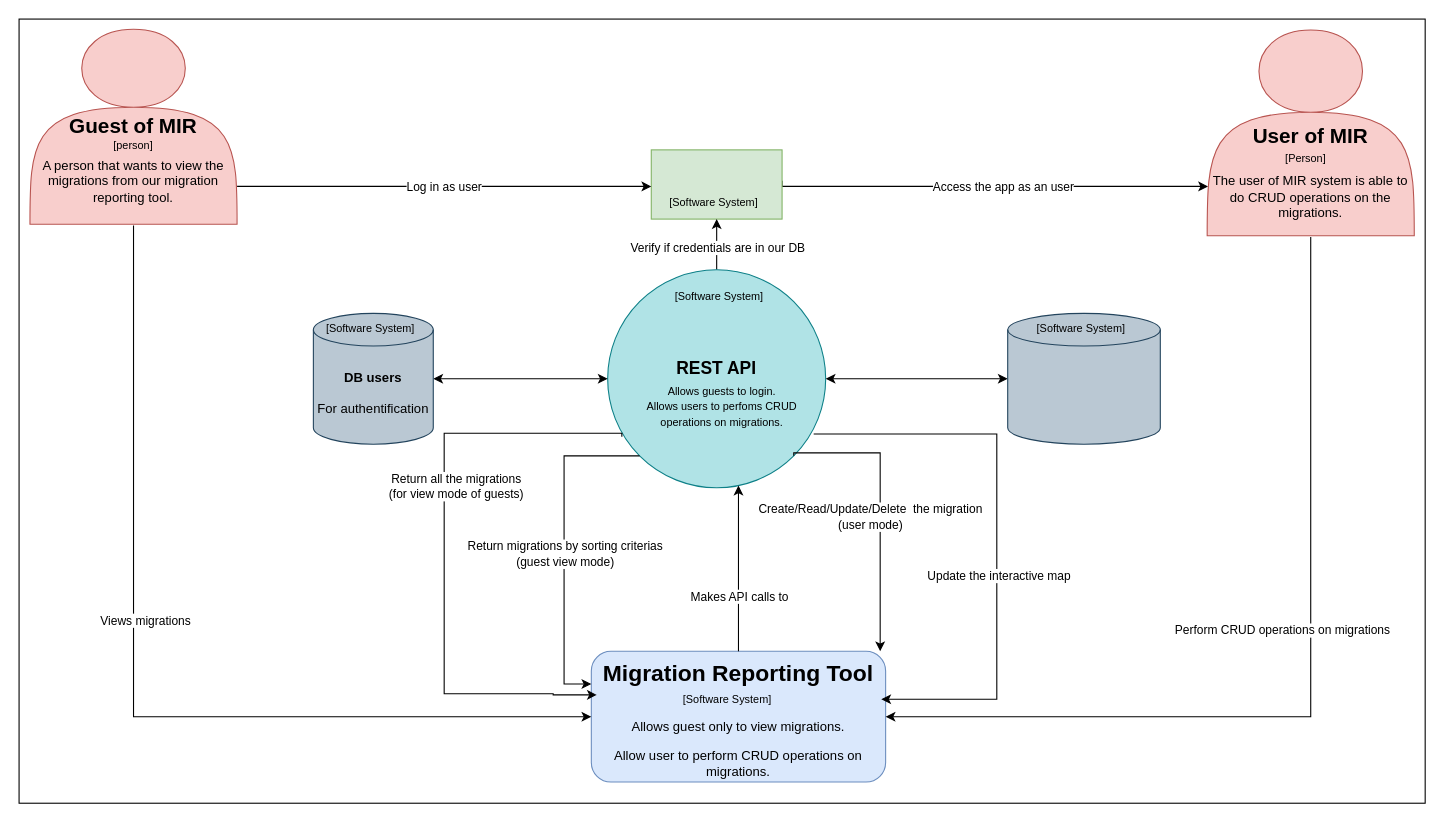
Image size: 1444x823. Some labels were removed from this diagram. Each missing label, with the box of its shape:
DB migrations-related Store data about migrations: (1007, 312, 1160, 444)
Login: (650, 149, 782, 219)
